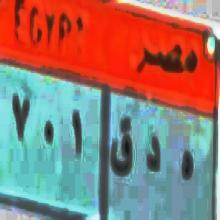0: (43, 114, 55, 152)
1: (70, 108, 84, 166)
7: (12, 95, 30, 148)
daal: (145, 130, 163, 182)
haa: (178, 142, 195, 191)
qaaf: (110, 118, 135, 187)
